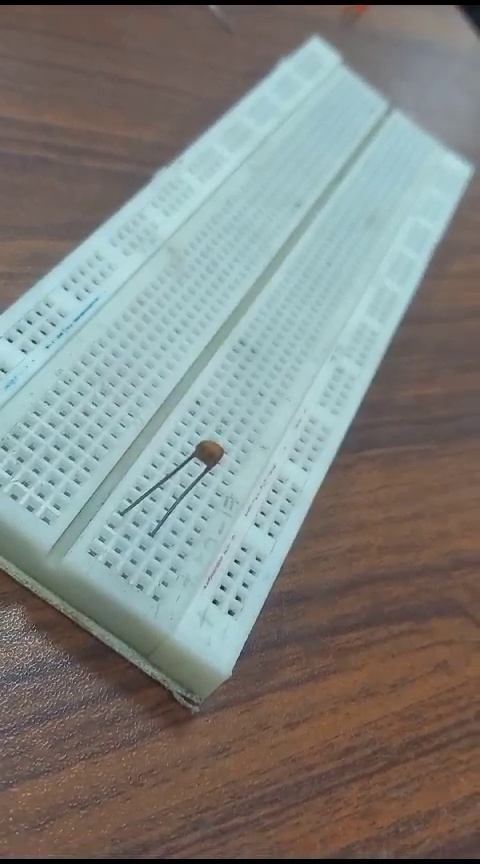ceramic capacitor: (115, 417, 234, 541)
